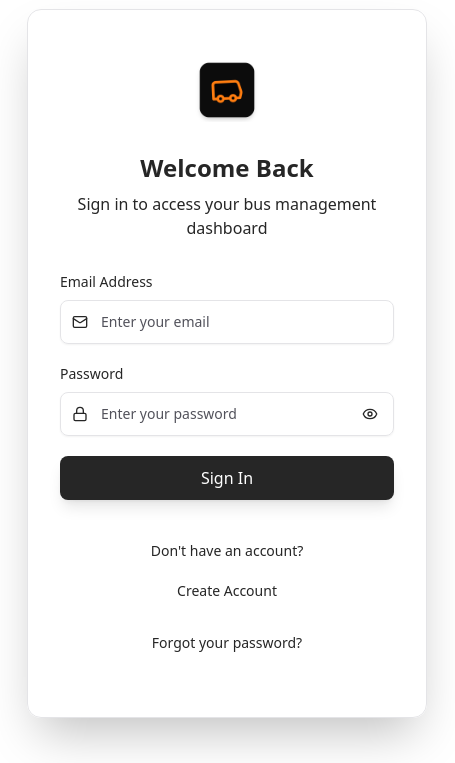
Test: AuthForm › shows validation errors on empty submit (signup)
This screenshot has width=455, height=763.
Click the button "Create Account". click: (227, 590)
box: [161,572,293,608]
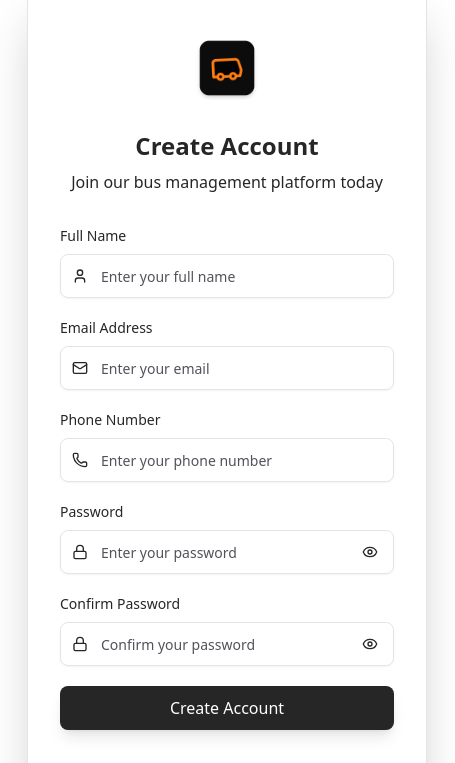
Click the button "Create Account". click: (227, 708)
box: [60,686,394,730]
(page scrolled)
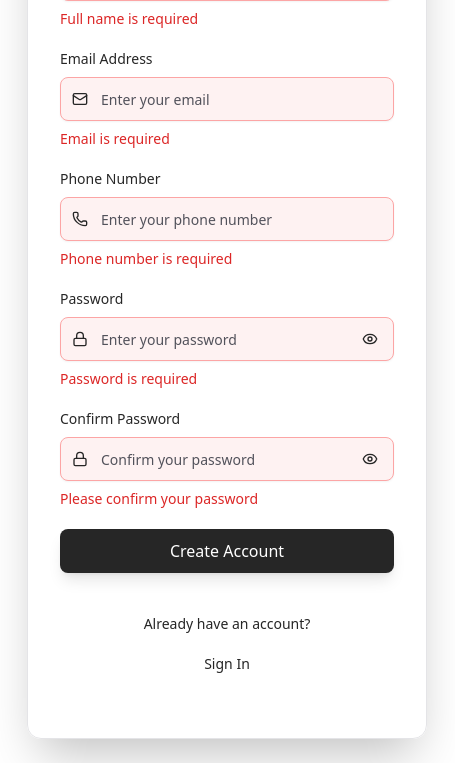
Expected: the text "Full name is required" is shown, [60,9,198,28]
Expected: the text "Email is required" is shown, [60,129,170,148]
Expected: the text "Phone number is required" is shown, [60,249,232,268]
